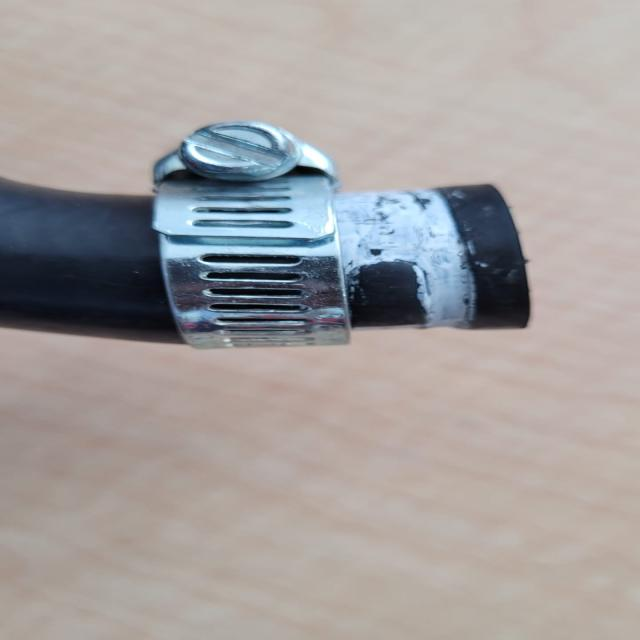clamp: (135, 121, 352, 352)
pipe: (357, 189, 525, 332)
